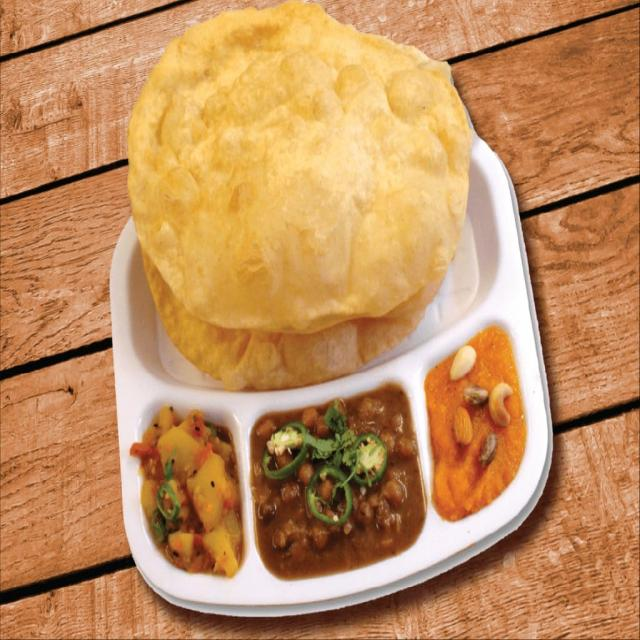poori: (124, 2, 480, 338)
